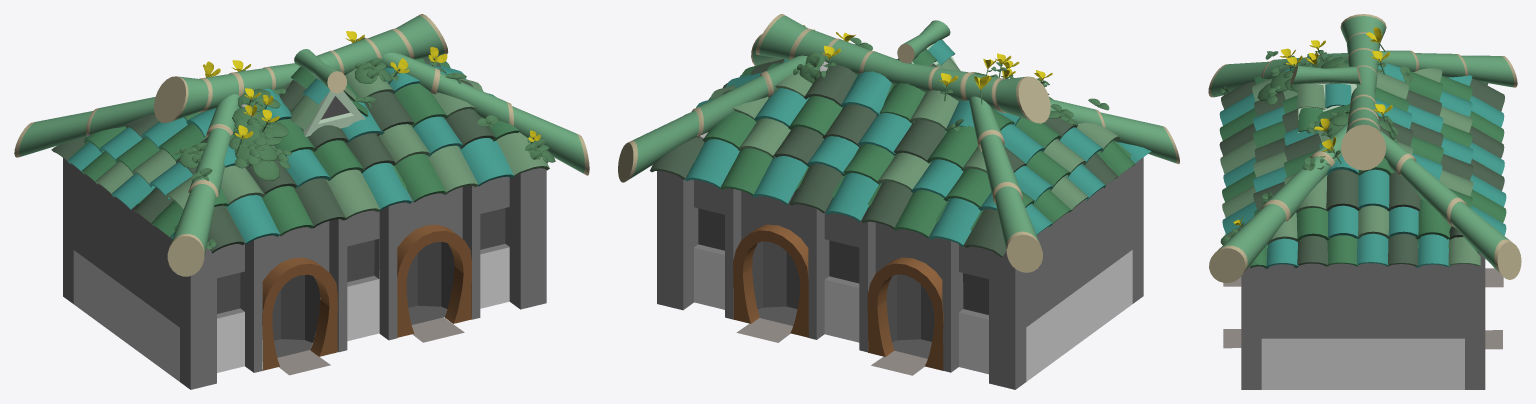
Rendered from UNITy restos exterieur.fbx.
3 renders of one model, left to right at view 1: azimuth 30°, elevation 25°; view 2: azimuth 150°, elevation 25°; view 3: azimuth 270°, elevation 25°, orthographic. The views are drawn at different scales.
Visible parts, largest first — view 1: polySurface587; view 2: polySurface587; view 3: polySurface587.
Boxes of the visible parts, x1,y1,x2,y2 form: polySurface587: [14, 14, 589, 389]; polySurface587: [618, 14, 1179, 389]; polySurface587: [1208, 14, 1521, 389].
Bounding box in the file's own units: 6.33 × 3.6 × 4.26.
